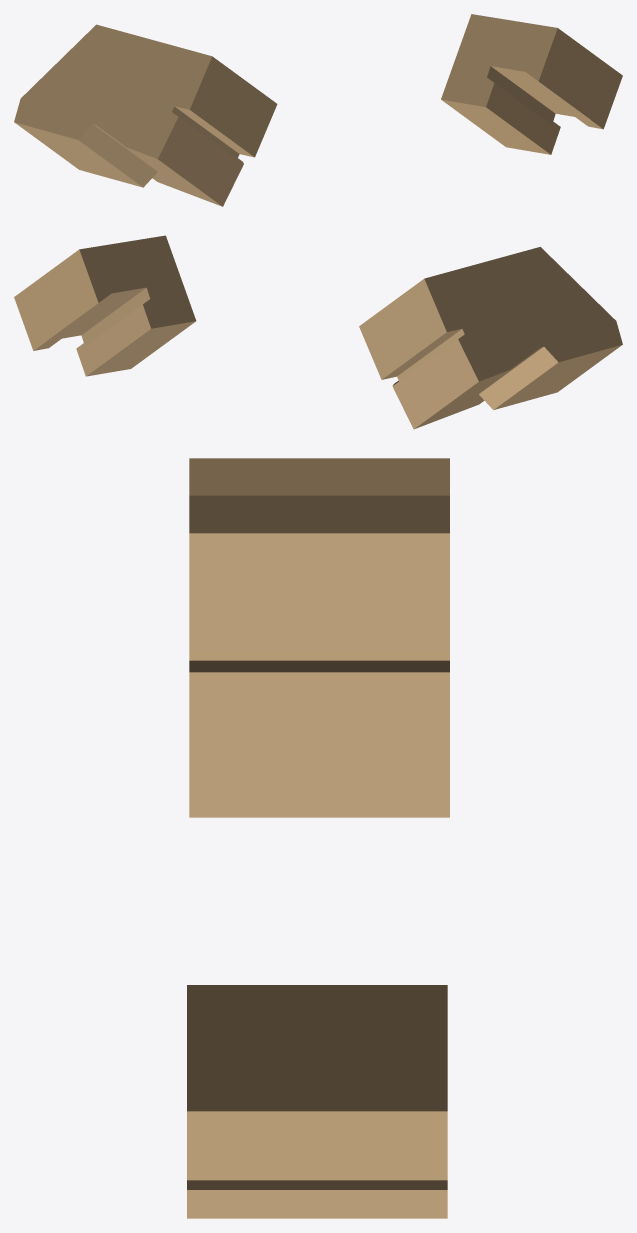
3 renders of one model, top to bottom at view 1: azimuth 30°, elevation 25°; view 2: azimuth 150°, elevation 25°; view 3: azimuth 270°, elevation 25°, orthographic. The views are drawn at different scales.
Parts seen in each view (by area): view 1: 0_0_1_2_3_0_0; view 2: 0_0_1_2_3_0_0; view 3: 0_0_1_2_3_0_0.
Boxes of the visible parts, x1,y1,x2,y2 form: 0_0_1_2_3_0_0: (14, 14, 622, 206); 0_0_1_2_3_0_0: (14, 235, 622, 429); 0_0_1_2_3_0_0: (187, 458, 449, 1218).
Bounding box in the file's own units: 115 × 36 × 24.2.
